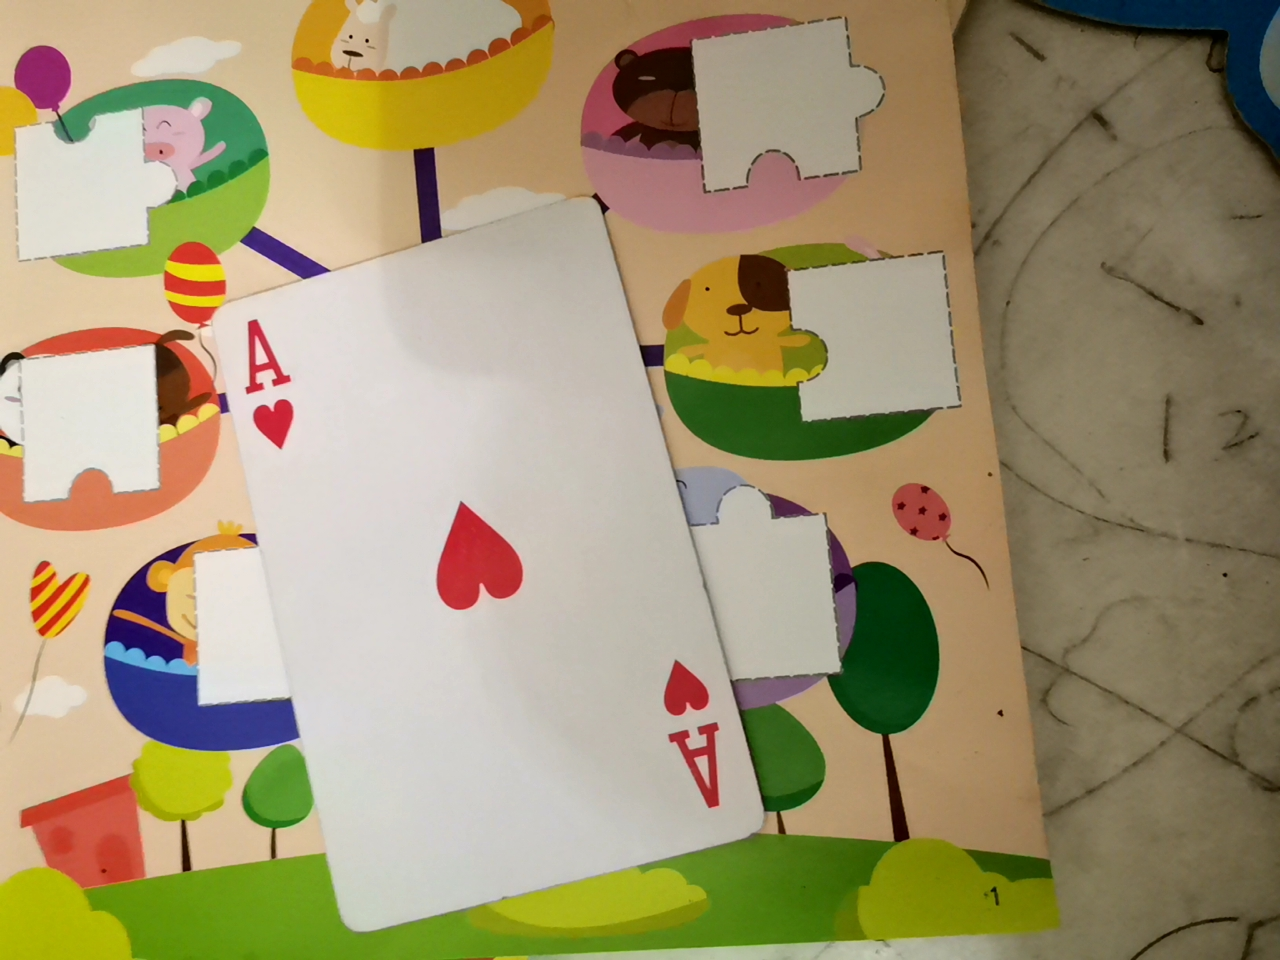hx a: (198, 211, 753, 937)
